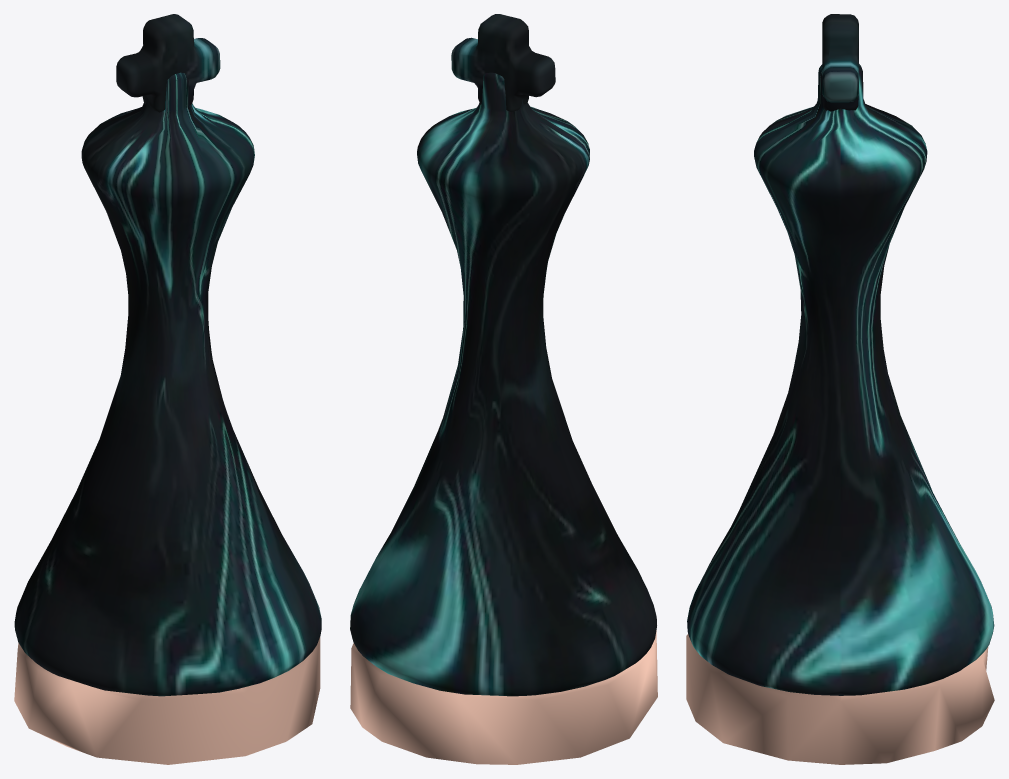
Rendered from kral_cerna.glb.
3 views of the same model, side by side, from view 1: azimuth 30°, elevation 25°; view 2: azimuth 150°, elevation 25°; view 3: azimuth 270°, elevation 25° (orthographic).
Visible parts, largest first — view 1: kral_cerna; view 2: kral_cerna; view 3: kral_cerna.
Boxes of the visible parts, box(x1,y1,x2,y2) form: kral_cerna: box(14, 14, 321, 764); kral_cerna: box(350, 14, 657, 764); kral_cerna: box(686, 14, 994, 764).
Size of the model in its own units: 0.0578 by 0.1417 by 0.0579.
2 materials, 1 textured.
